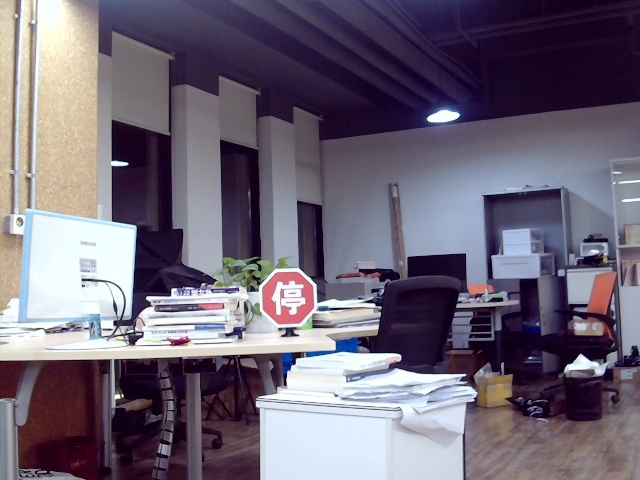stop: (271, 279, 304, 314)
